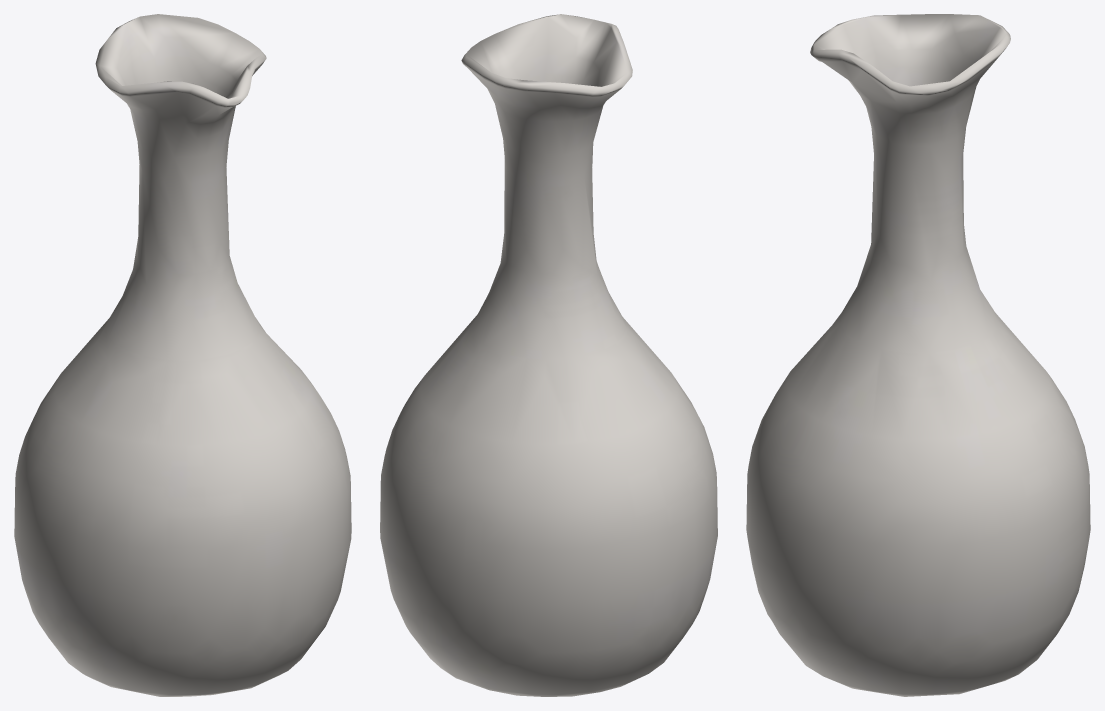
The model's file is ceramic_vase_01.glb.
3 views of the same model, side by side, from view 1: azimuth 30°, elevation 25°; view 2: azimuth 150°, elevation 25°; view 3: azimuth 270°, elevation 25° (orthographic).
Visible parts, largest first — view 1: ceramic_vase_01; view 2: ceramic_vase_01; view 3: ceramic_vase_01.
Part boxes in pixels (x1,y1,x2,y2): ceramic_vase_01: (14,14,351,696); ceramic_vase_01: (380,14,717,696); ceramic_vase_01: (746,14,1090,696).
Bounding box in the file's own units: 0.2026 × 0.4002 × 0.2026.
Materials: 1 (1 with a texture image).
